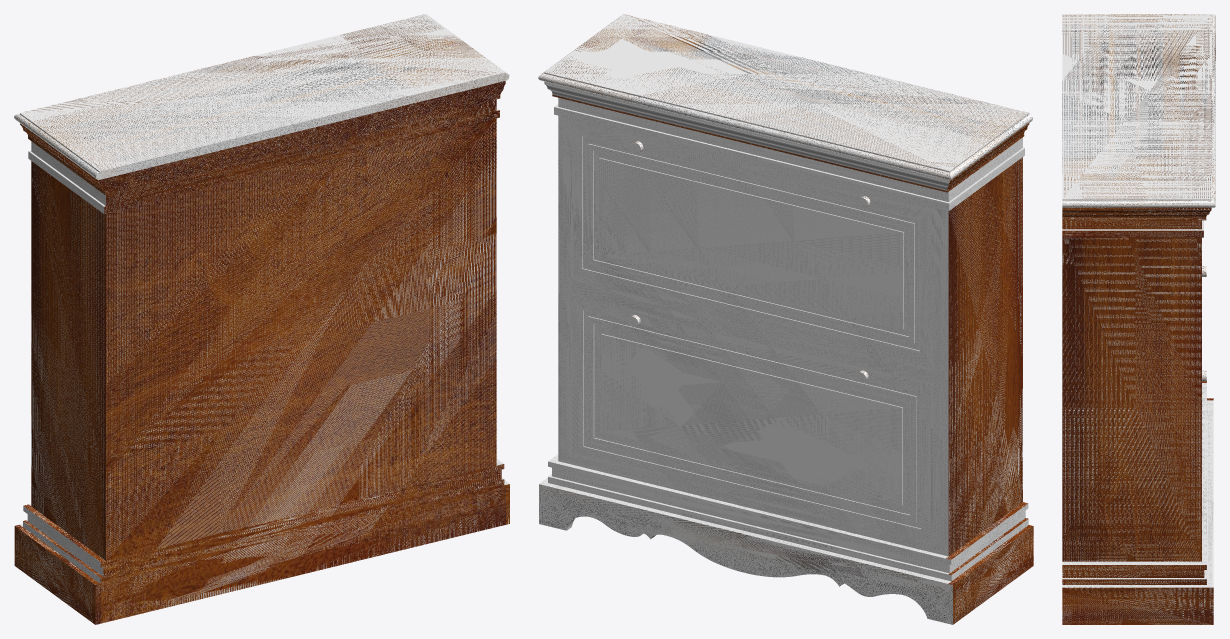
3 views of the same model, side by side, from view 1: azimuth 30°, elevation 25°; view 2: azimuth 150°, elevation 25°; view 3: azimuth 270°, elevation 25° (orthographic). The views are drawn at different scales.
Visible parts, largest first — view 1: mesh1_mesh1-geometry; view 2: mesh1_mesh1-geometry; view 3: mesh1_mesh1-geometry.
Boxes of the visible parts, bbox=[...] form: mesh1_mesh1-geometry: bbox=[14, 14, 509, 624]; mesh1_mesh1-geometry: bbox=[538, 14, 1033, 624]; mesh1_mesh1-geometry: bbox=[1062, 14, 1215, 624].
Size of the model in its own units: 0.6734 by 0.7024 by 0.2307.
